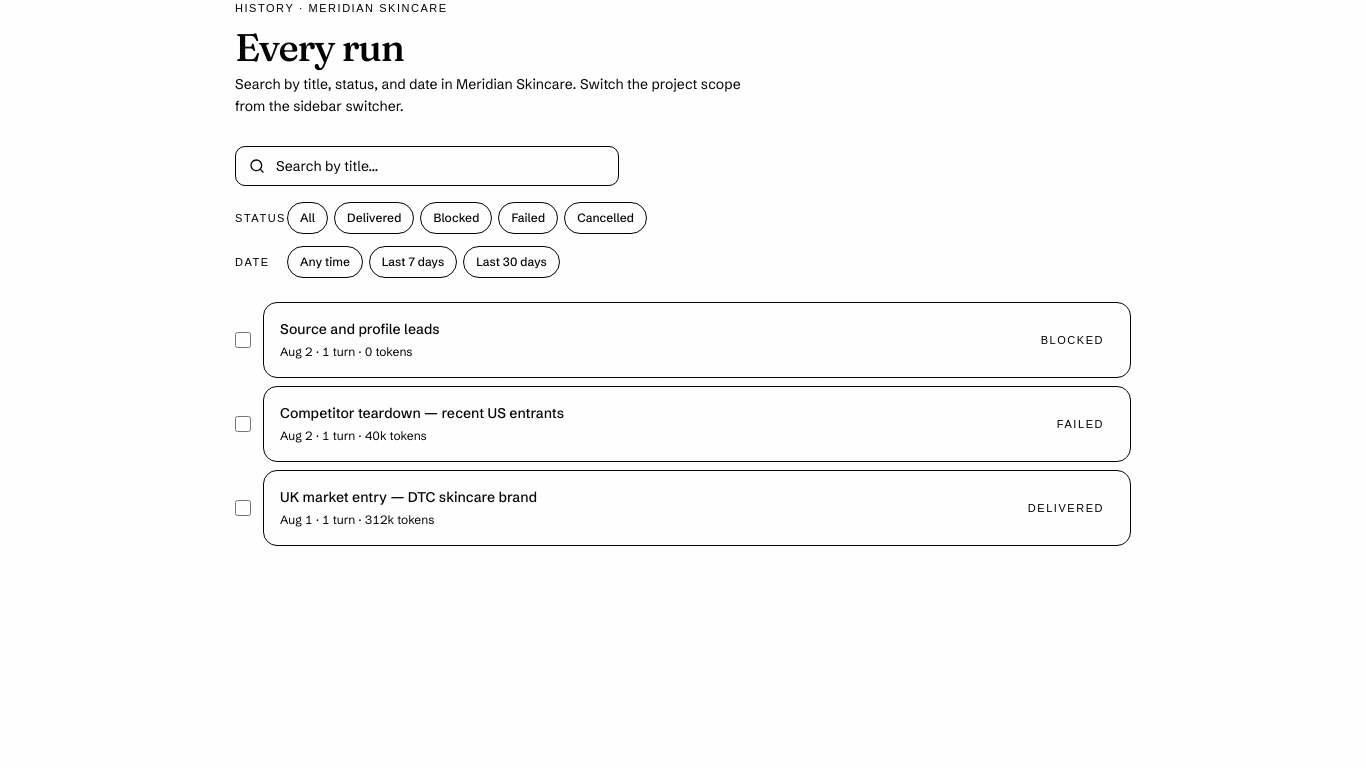
Scenario: HistoryPage › bulk-deletes every checked session and reports a clean success
This screenshot has width=1366, height=768.
Click the checkbox named "Select Source and profile leads" at (243, 340), box [235,332,251,348]
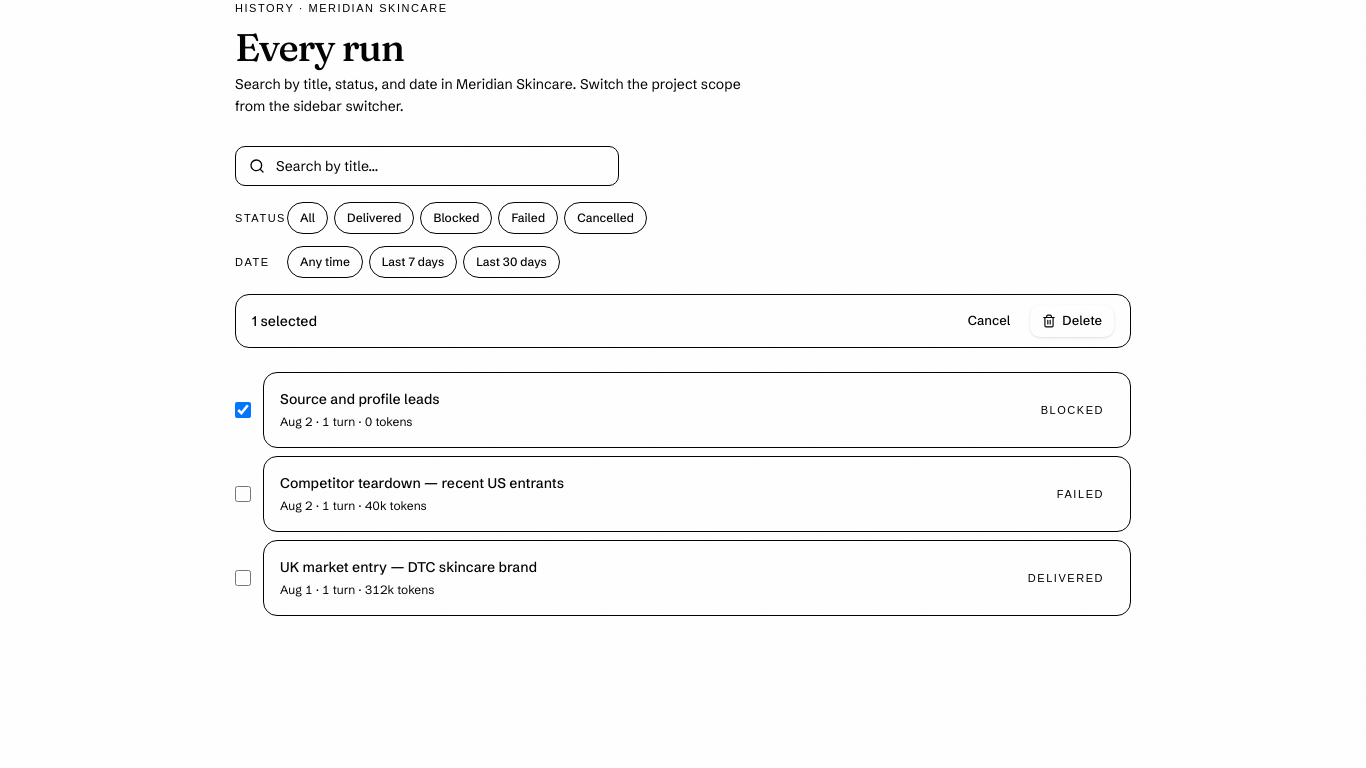
Click the checkbox named "Select Competitor teardown — recent US entrants" at (243, 494), box [235,486,251,502]
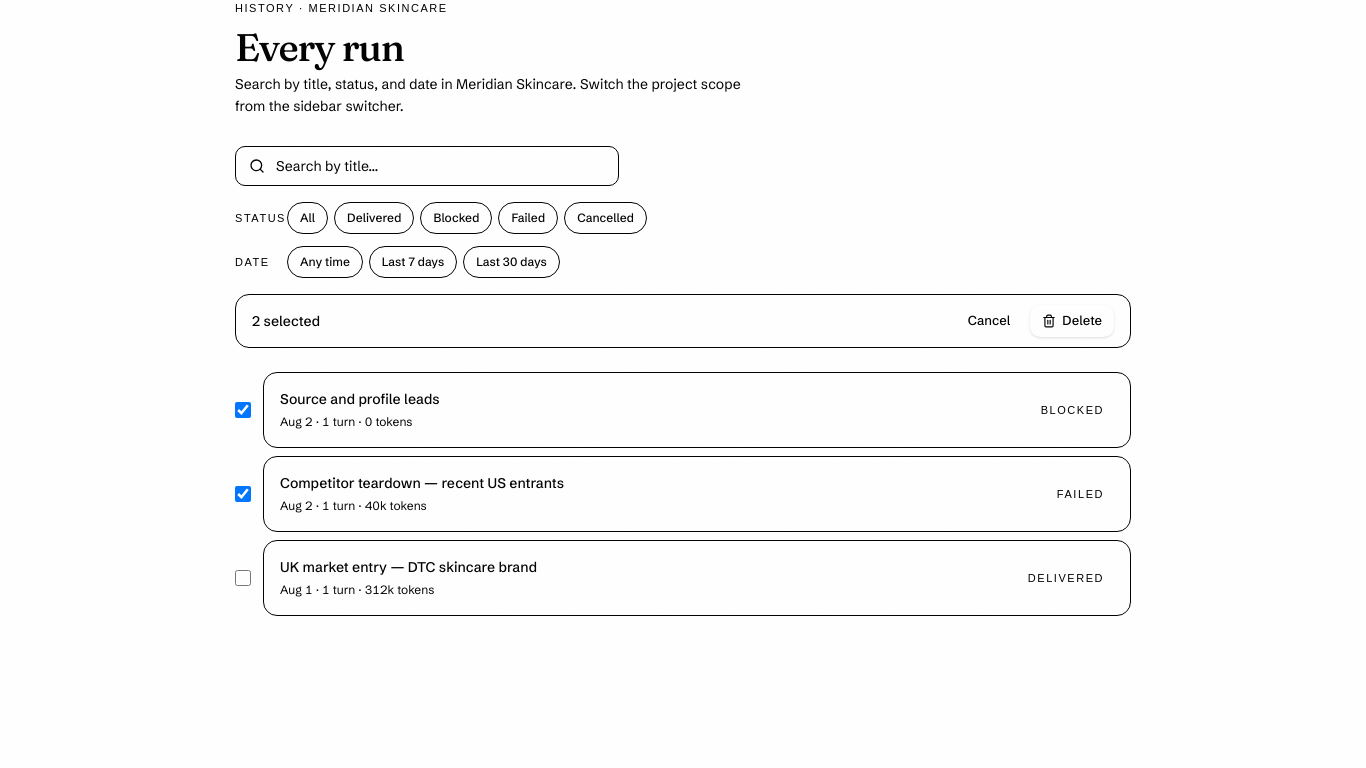
Expected: the text "2 selected" is shown, [252,311,320,331]
Click the button "Delete" at (1072, 321), box [1030,305,1114,337]
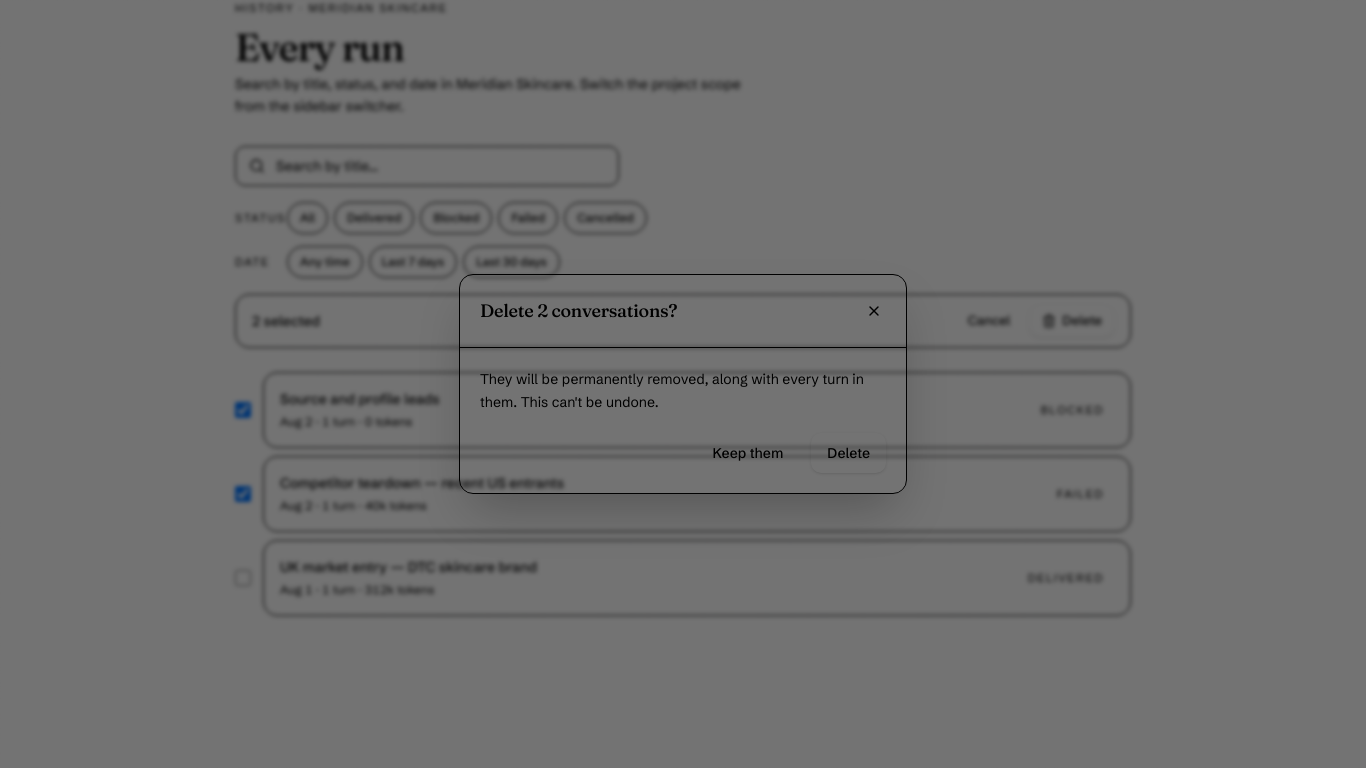
Expected: the heading "Delete 2 conversations?" is shown, [480,301,677,320]
Click the button "Delete" at (849, 453), box [811,433,886,473]
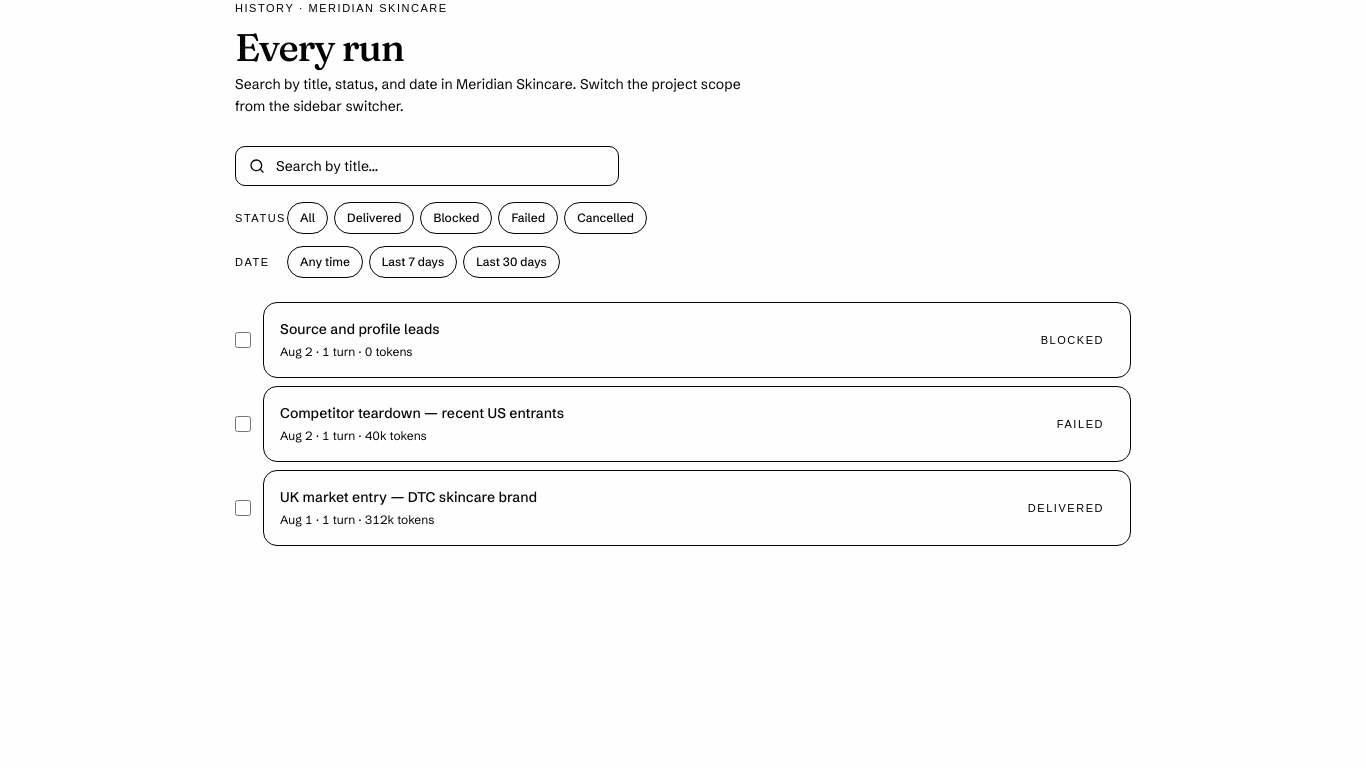
Expected: the text "selected" is gone
